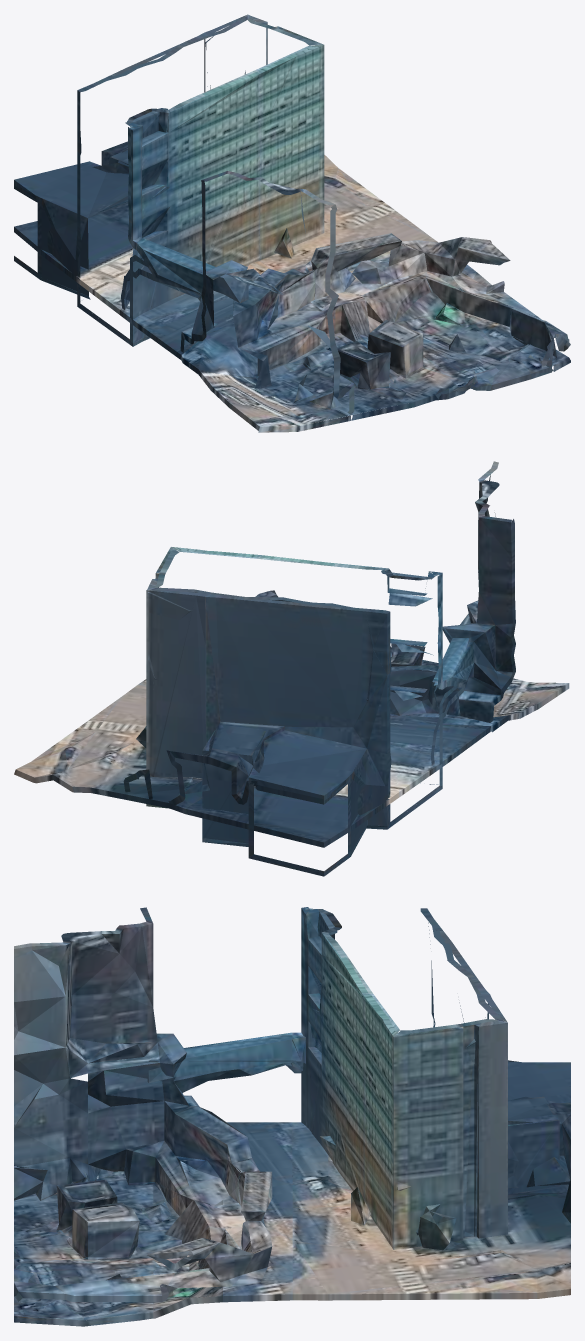
The model's file is chunk_4_3.glb.
The picture shows the model from 3 angles, top to bottom: view 1: azimuth 30°, elevation 25°; view 2: azimuth 150°, elevation 25°; view 3: azimuth 270°, elevation 25°; orthographic projection. The views are drawn at different scales.
Parts seen in each view (by area): view 1: hero-chunk; view 2: hero-chunk; view 3: hero-chunk.
Boxes of the visible parts, <box> form: hero-chunk: <box>14,14,570,432</box>; hero-chunk: <box>14,461,569,876</box>; hero-chunk: <box>14,907,570,1326</box>.
Bounding box in the file's own units: 56.04 × 38.7 × 76.32.
1 material, 1 textured.
